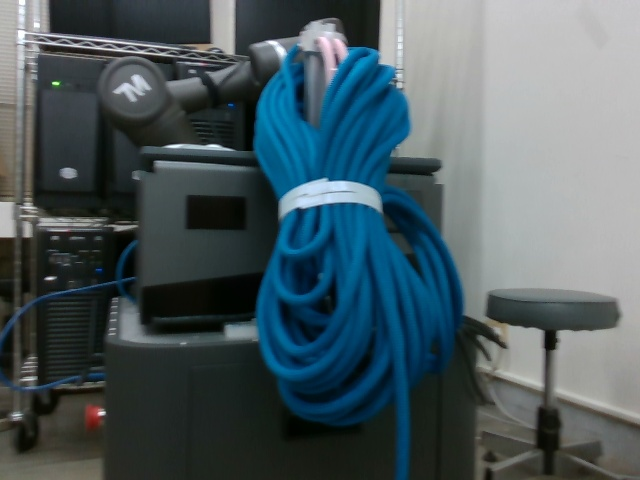rope: (251, 39, 472, 480)
